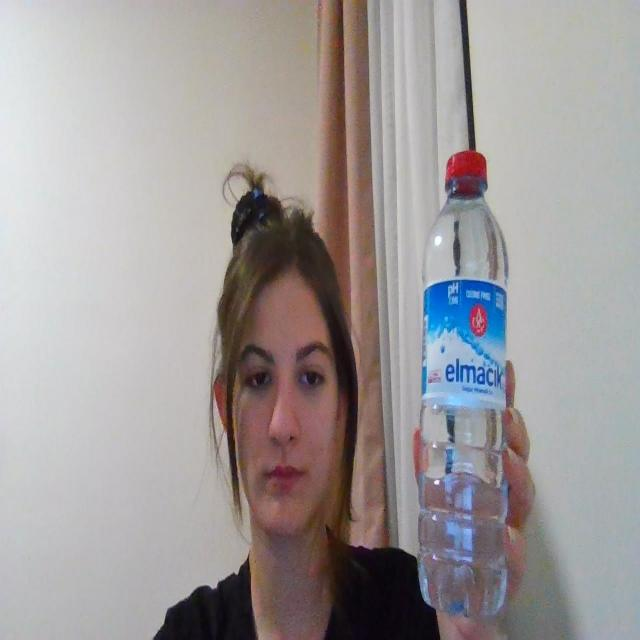bottle: (417, 148, 522, 632)
